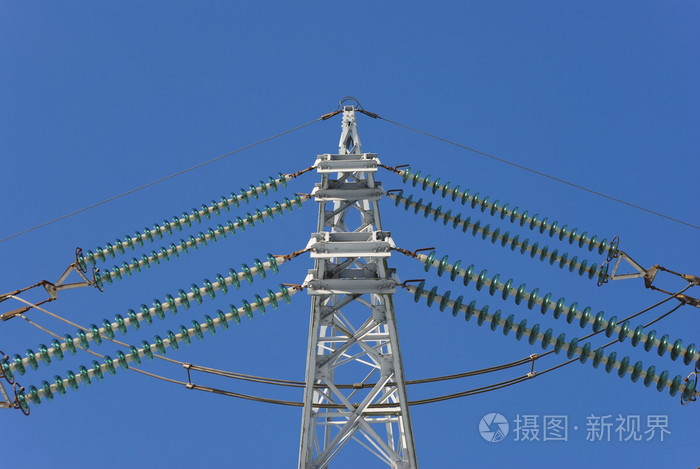insulator: (1, 252, 282, 384), (414, 280, 700, 404), (16, 283, 294, 410), (418, 251, 700, 366), (400, 167, 620, 262), (395, 190, 610, 283), (77, 172, 289, 265), (92, 193, 304, 284)
